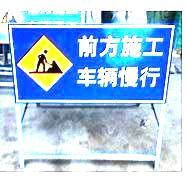sign: (8, 24, 167, 102)
